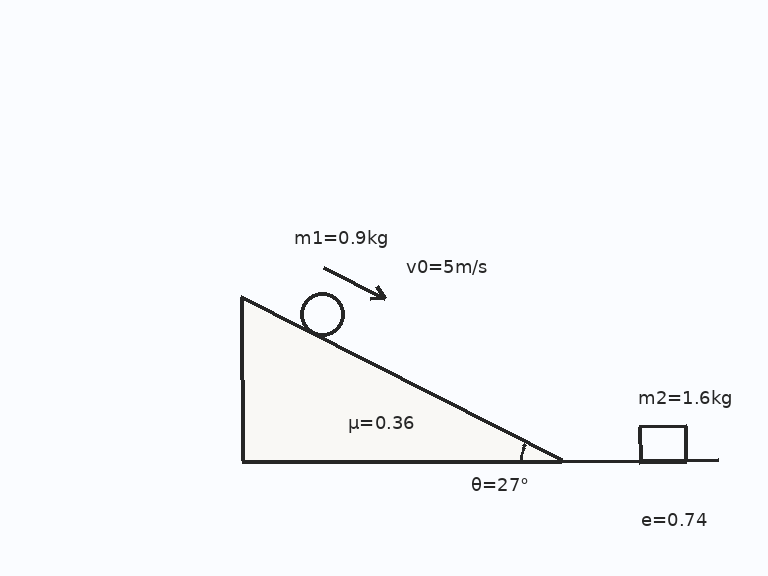ball: (298, 290, 346, 338)
block: (638, 425, 688, 463)
ramp: (239, 296, 563, 463)
